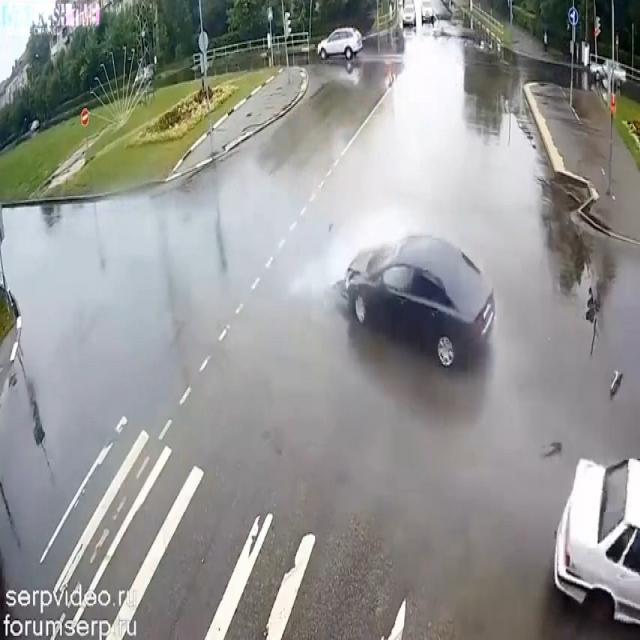Accident: (326, 192, 640, 640)
